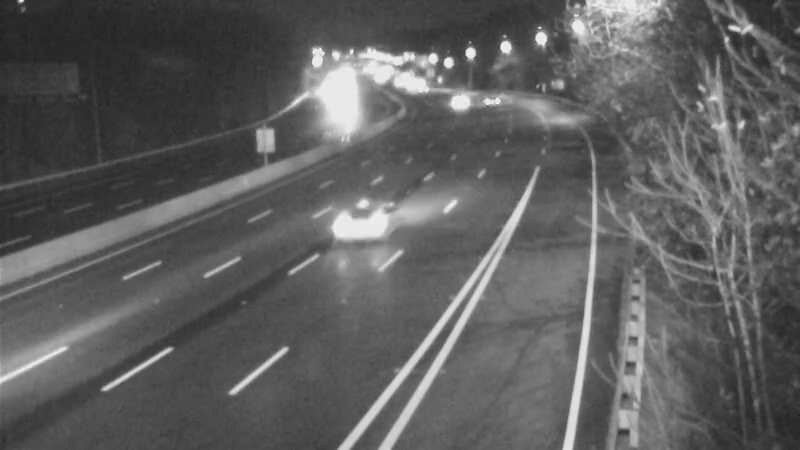vehicle: (329, 175, 409, 255), (435, 71, 485, 121), (463, 71, 513, 121)
